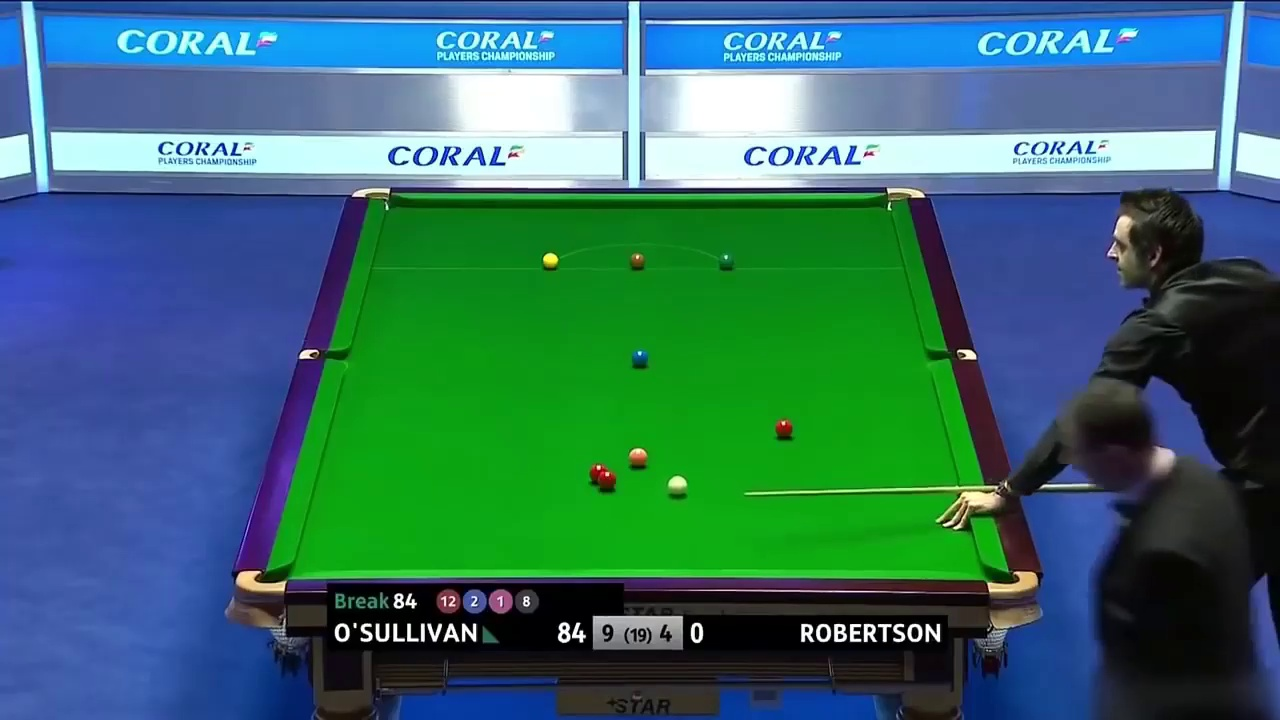ball: (774, 418, 795, 440), (668, 474, 690, 495), (627, 253, 650, 270), (629, 447, 647, 468), (539, 252, 559, 270), (630, 350, 648, 369), (719, 252, 735, 272)
